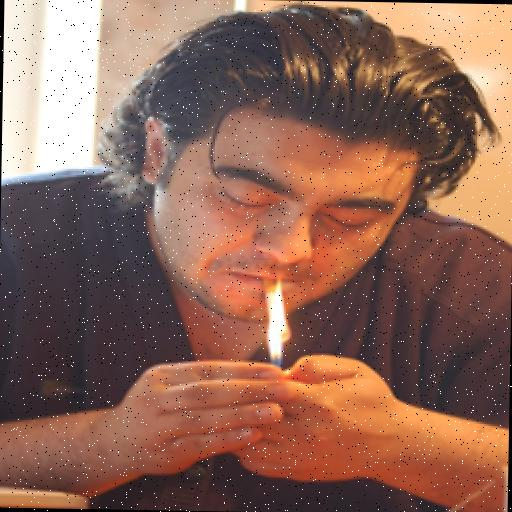membakar rokok: (214, 155, 391, 408)
